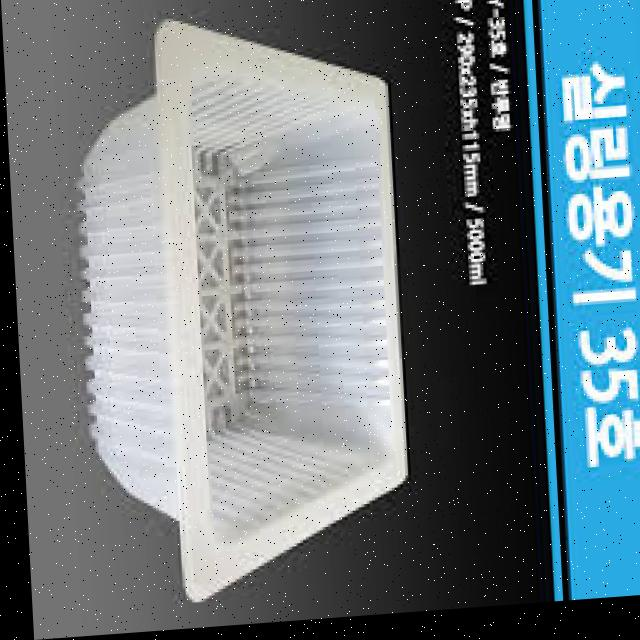disposable: (39, 7, 435, 615)
